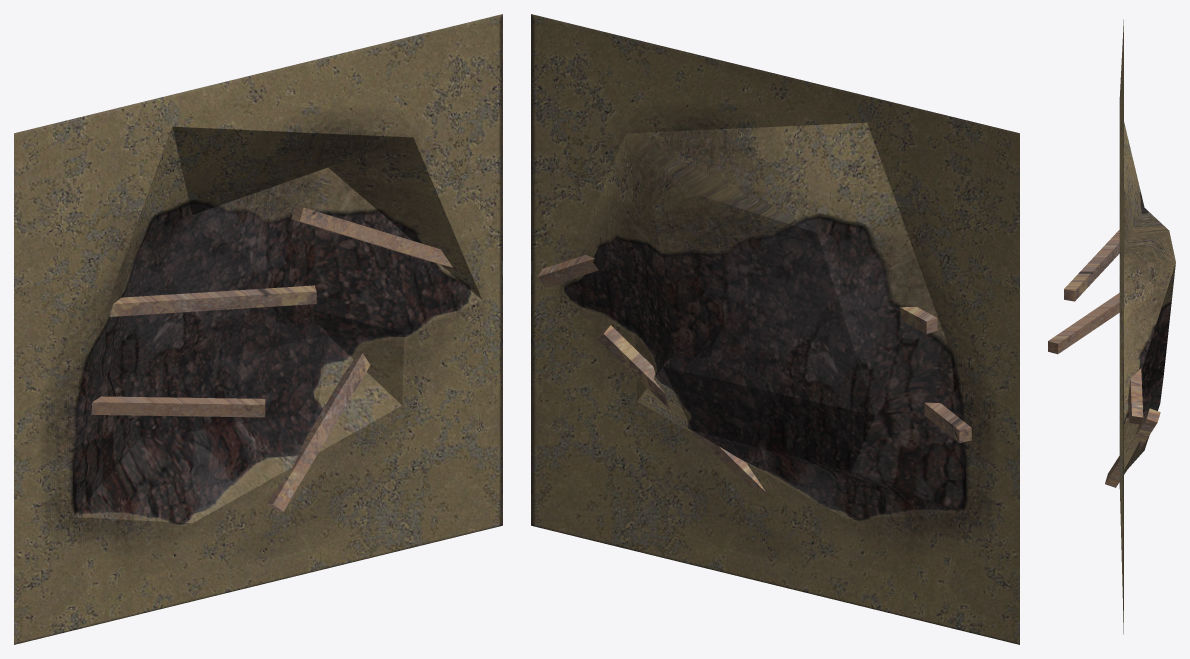
The model's file is wall_hole2.obj.
3 renders of one model, left to right at view 1: azimuth 30°, elevation 25°; view 2: azimuth 150°, elevation 25°; view 3: azimuth 270°, elevation 25°, orthographic. The views are drawn at different scales.
Parts seen in each view (by area): view 1: polySurface46; view 2: polySurface46; view 3: polySurface46.
Boxes of the visible parts, box(x1,y1,x2,y2) form: polySurface46: box(14, 14, 502, 644); polySurface46: box(531, 14, 1019, 644); polySurface46: box(1048, 19, 1175, 634).
Size of the model in its own units: 1 by 1 by 0.2695.
Materials: 1 (1 with a texture image).
